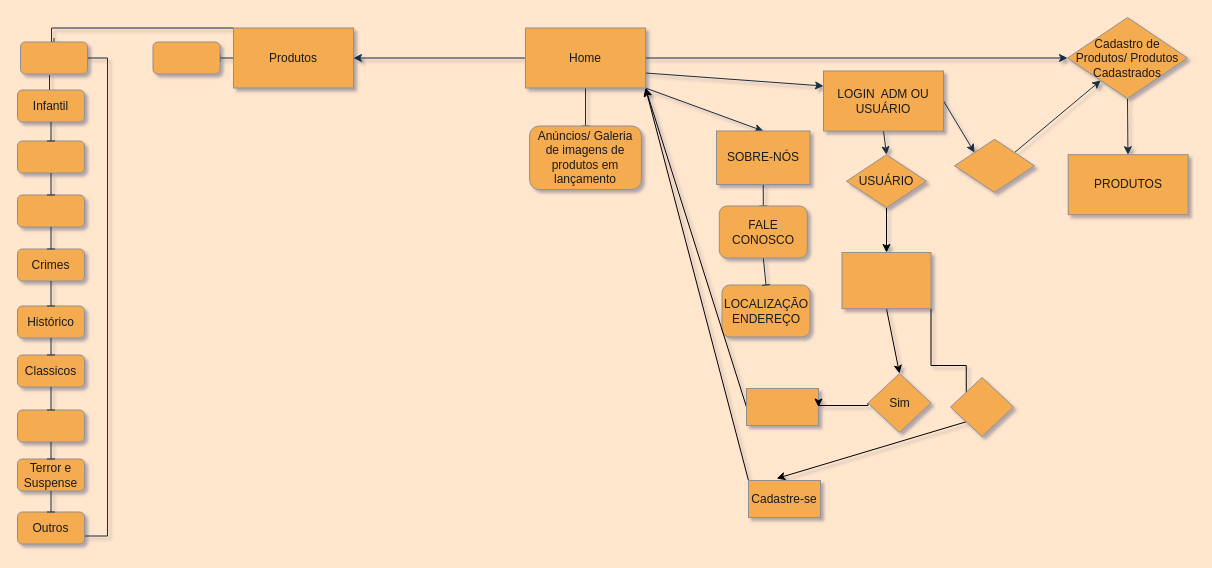
Image size: 1212x568. Some labels were removed from this diagram. Each missing label, with the box of its shape:
ADM: (954, 138, 1034, 192)
Aventura: (16, 140, 84, 173)
Categoria: (20, 41, 88, 74)
Fatos Reais: (16, 194, 84, 227)
Login: (746, 388, 818, 426)
Não: (950, 376, 1014, 436)
Possui login?: (841, 252, 931, 309)
Romance: (16, 409, 84, 442)
Ver Todos: (152, 41, 220, 74)
